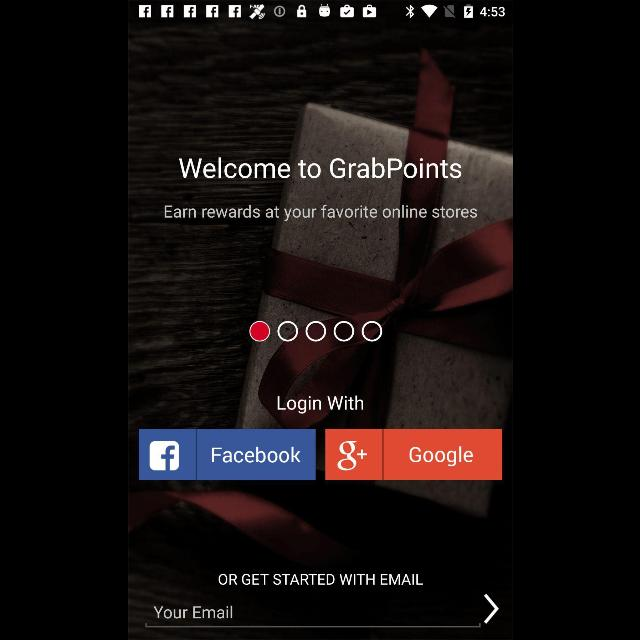backgroundimage: (128, 22, 512, 640)
icon: (484, 594, 498, 624)
input: (144, 605, 480, 627)
pageindicator: (248, 321, 382, 344)
text: (178, 157, 460, 179), (164, 204, 476, 222), (218, 573, 422, 585), (276, 396, 364, 414), (153, 606, 231, 618)
textbutton: (324, 430, 502, 480), (138, 430, 314, 480)
uppertaskbar: (128, 1, 512, 22)
